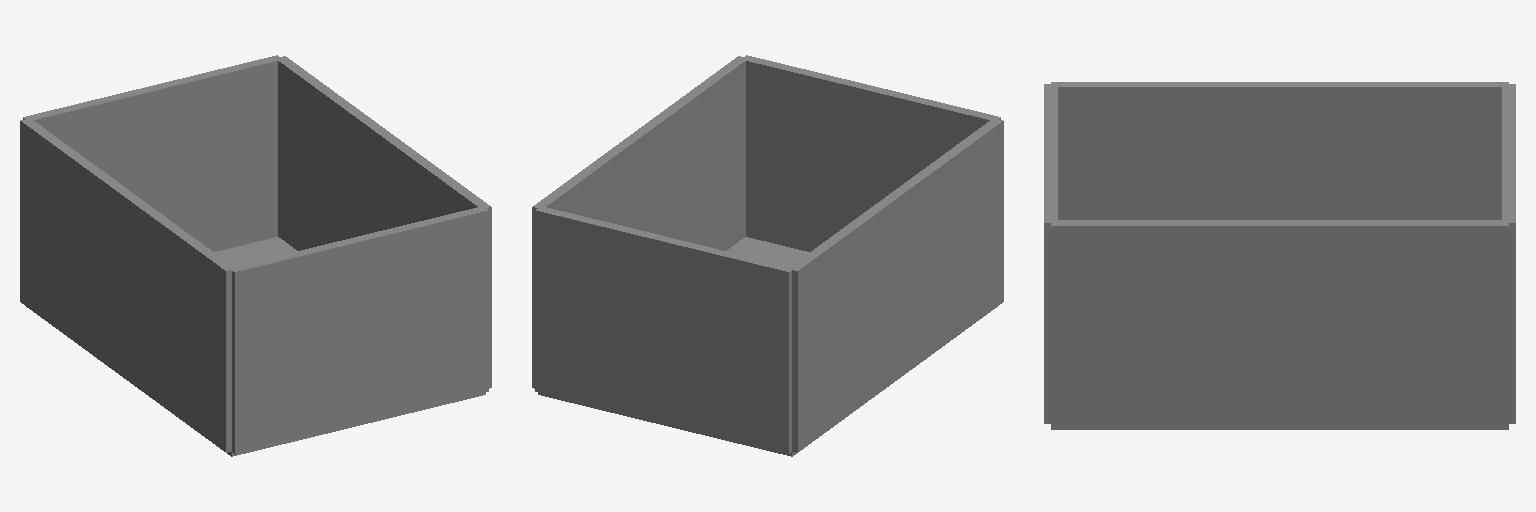
The robot description file, URDF, robot "bin":
<robot name="bin">
  <link name="bin_body">
    <collision>
      <origin xyz="0 0 -.085" />
      <geometry>
        <box size="0.21 0.35 0.01" />
      </geometry>
    </collision>
    <inertial>
      <origin rpy="0 0 0" xyz="0 0 0"/>
       <mass value="0.1"/>
       <inertia ixx="0.000166666667" ixy="0" ixz="0" iyy="0.000166666667" iyz="0" izz="0.000166666667"/>
    </inertial>
    <visual>
      <origin xyz="0 0 -.085" />
      <material name="c">
        <color rgba="0.6 0.6 0.6 1.0" />
      </material>
      <geometry>
        <box size="0.25 0.35 0.01" />
      </geometry>
    </visual>
    <collision>
      <origin xyz="0.125 0 0" />
      <geometry>
        <box size="0.01 0.35 0.17" />
      </geometry>
    </collision>
    <visual>
      <origin xyz="0.125 0 0" />
      <material name="c">
        <color rgba="0.6 0.6 0.6 1.0" />
      </material>
      <geometry>
        <box size="0.01 0.35 0.17" />
      </geometry>
    </visual>
    <collision>
      <origin xyz="-0.125 0 0" />
      <geometry>
        <box size="0.01 0.35 0.17" />
      </geometry>
    </collision>
    <visual>
      <origin xyz="-0.125 0 0" />
      <material name="c">
        <color rgba="0.6 0.6 0.6 1.0" />
      </material>
      <geometry>
        <box size="0.01 0.35 0.17" />
      </geometry>
    </visual>
    <collision>
      <origin xyz="0 0.175 0" />
      <geometry>
        <box size="0.25 0.01 0.17" />
      </geometry>
    </collision>
    <visual>
      <origin xyz="0 0.175 0" />
      <material name="c">
        <color rgba="0.6 0.6 0.6 1.0" />
      </material>
      <geometry>
        <box size="0.25 0.01 0.17" />
      </geometry>
    </visual>
    <collision>
      <origin xyz="0 -0.175 0" />
      <geometry>
        <box size="0.25 0.01 0.17" />
      </geometry>
    </collision>
    <visual>
      <origin xyz="0 -0.175 0" />
      <material name="c">
        <color rgba="0.6 0.6 0.6 1.0" />
      </material>
      <geometry>
        <box size="0.25 0.01 0.17" />
      </geometry>
    </visual>
  </link>
</robot>

--- What the picture shows (computed from the rendered views, not written in the file) ---
3 views of the same robot in one strip: view 1: azimuth 30°, elevation 25°; view 2: azimuth 150°, elevation 25°; view 3: azimuth 270°, elevation 25° (orthographic).
Robot: bin — 1 links, 0 joints (none); root link bin_body; default pose: all joints at 0.
Visible links, largest first — view 1: bin_body; view 2: bin_body; view 3: bin_body.
Link boxes in pixels (x1,y1,x2,y2): bin_body: [20, 55, 491, 456]; bin_body: [532, 55, 1003, 456]; bin_body: [1044, 82, 1515, 429].
Size in the robot's own frame: 0.26 by 0.36 by 0.175 metres.
Geometry: primitives only (box / cylinder / sphere), no mesh files.